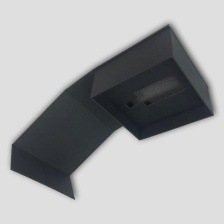book: (6, 20, 217, 205)
